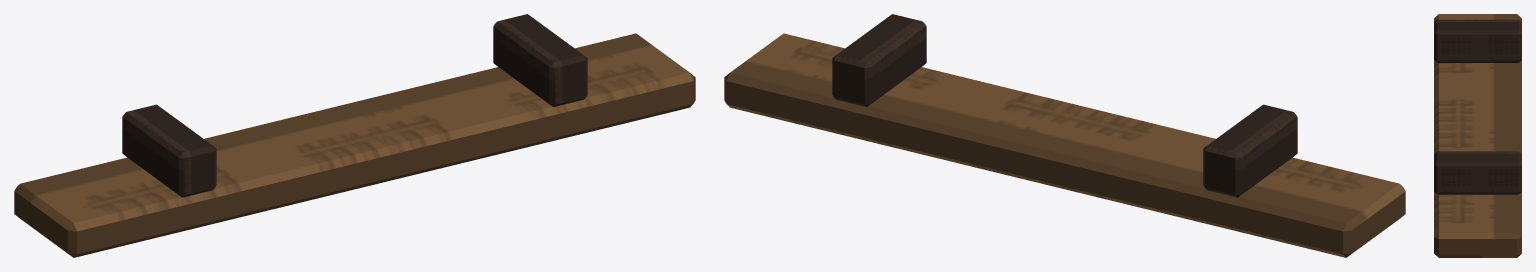
File: rail-element.glb
3 views of the same model, side by side, from view 1: azimuth 30°, elevation 25°; view 2: azimuth 150°, elevation 25°; view 3: azimuth 270°, elevation 25° (orthographic). The views are drawn at different scales.
Visible parts, largest first — view 1: RailElement; view 2: RailElement; view 3: RailElement.
Boxes of the visible parts, left/top/right/bottom form: RailElement: left=14, top=14, right=695, bottom=257; RailElement: left=724, top=14, right=1405, bottom=257; RailElement: left=1434, top=14, right=1521, bottom=257.
Size of the model in its own units: 1.32 by 0.16 by 0.22.
1 material, 1 textured.
